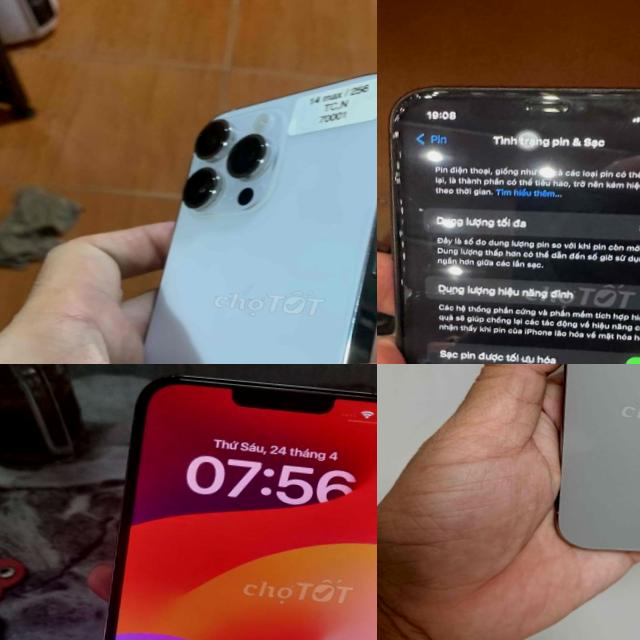scratch: (377, 79, 439, 312)
